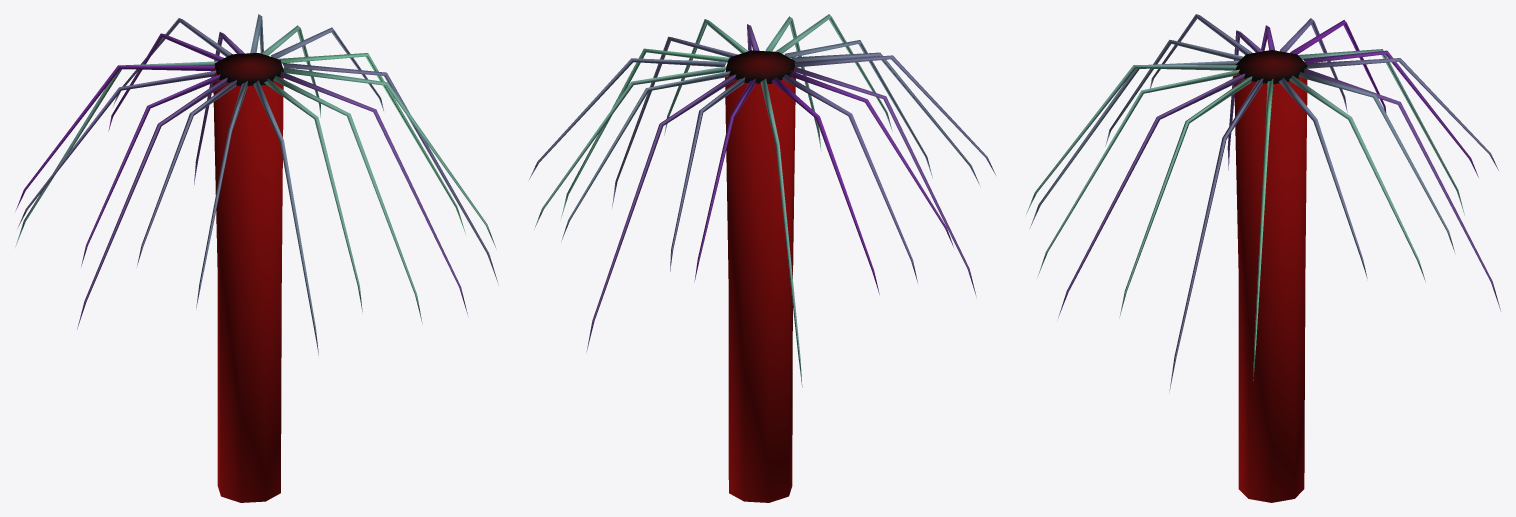
File: anemone_tube_lo.glb
3 views of the same model, side by side, from view 1: azimuth 30°, elevation 25°; view 2: azimuth 150°, elevation 25°; view 3: azimuth 270°, elevation 25° (orthographic).
Parts seen in each view (by area): view 1: anemone_tube_lo; view 2: anemone_tube_lo; view 3: anemone_tube_lo.
Part boxes in pixels (<box>): anemone_tube_lo: <box>15,14,498,502</box>; anemone_tube_lo: <box>529,14,995,502</box>; anemone_tube_lo: <box>1026,14,1500,502</box>.
Bounding box in the file's own units: 0.285 × 0.2884 × 0.2903.
